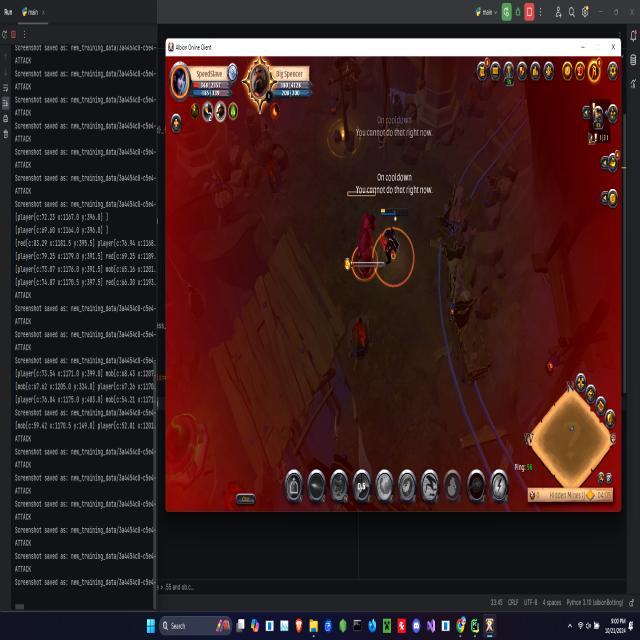ore: (342, 186, 385, 287)
red: (379, 202, 410, 268)
silver: (371, 228, 414, 287)
